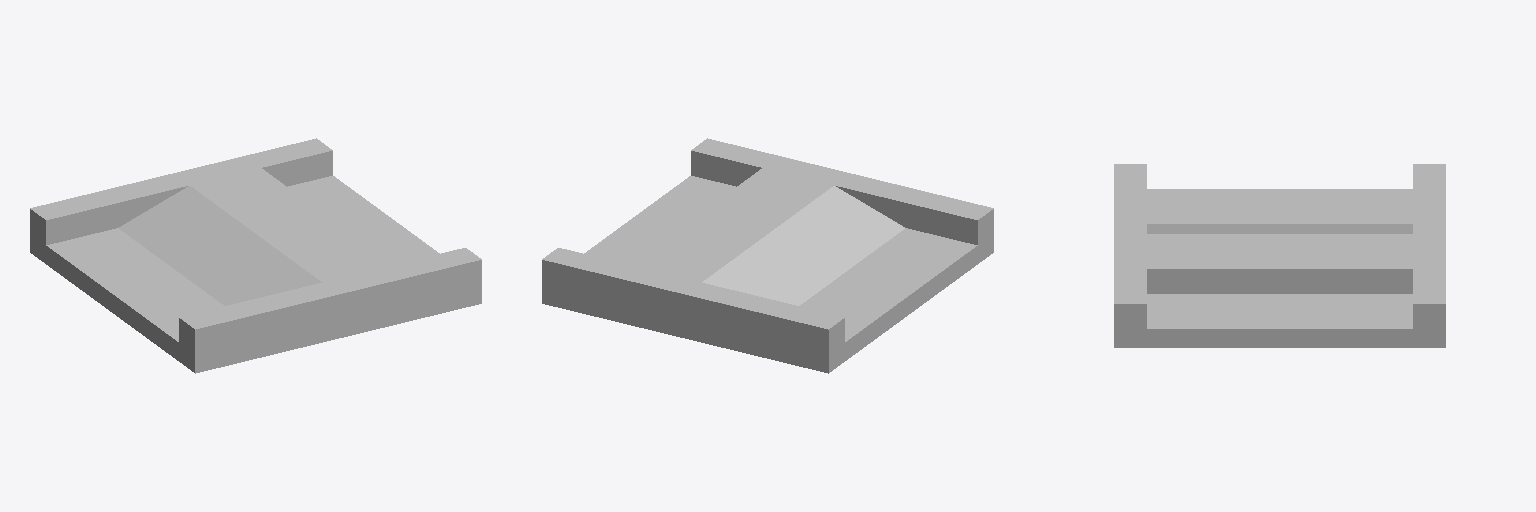
File: rampSquare.obj
3 views of the same model, side by side, from view 1: azimuth 30°, elevation 25°; view 2: azimuth 150°, elevation 25°; view 3: azimuth 270°, elevation 25° (orthographic).
Visible parts, largest first — view 1: rampSquare; view 2: rampSquare; view 3: rampSquare.
Boxes of the visible parts, x1,y1,x2,y2 form: rampSquare: [30, 138, 481, 373]; rampSquare: [542, 138, 993, 373]; rampSquare: [1114, 164, 1445, 347].
Size of the model in its own units: 0.9999 by 0.1467 by 0.9999.